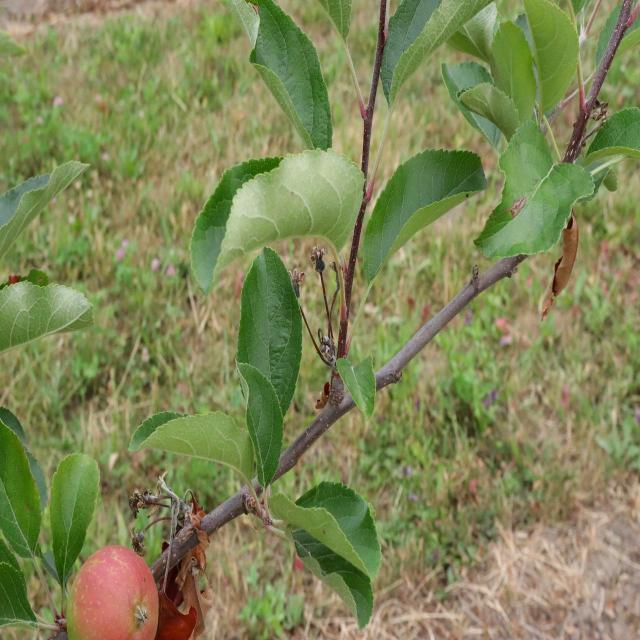-FireBlight-: (162, 514, 215, 640), (554, 200, 576, 316)
